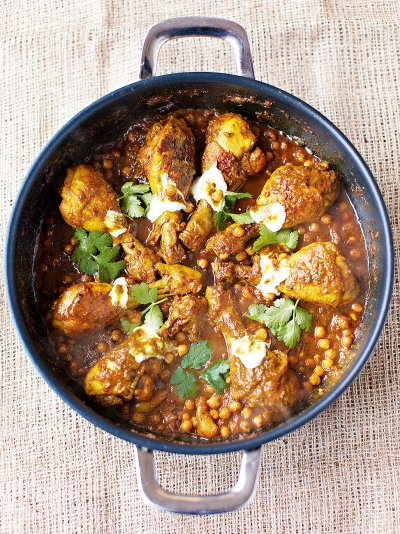chicken_curry: (83, 122, 355, 414)
